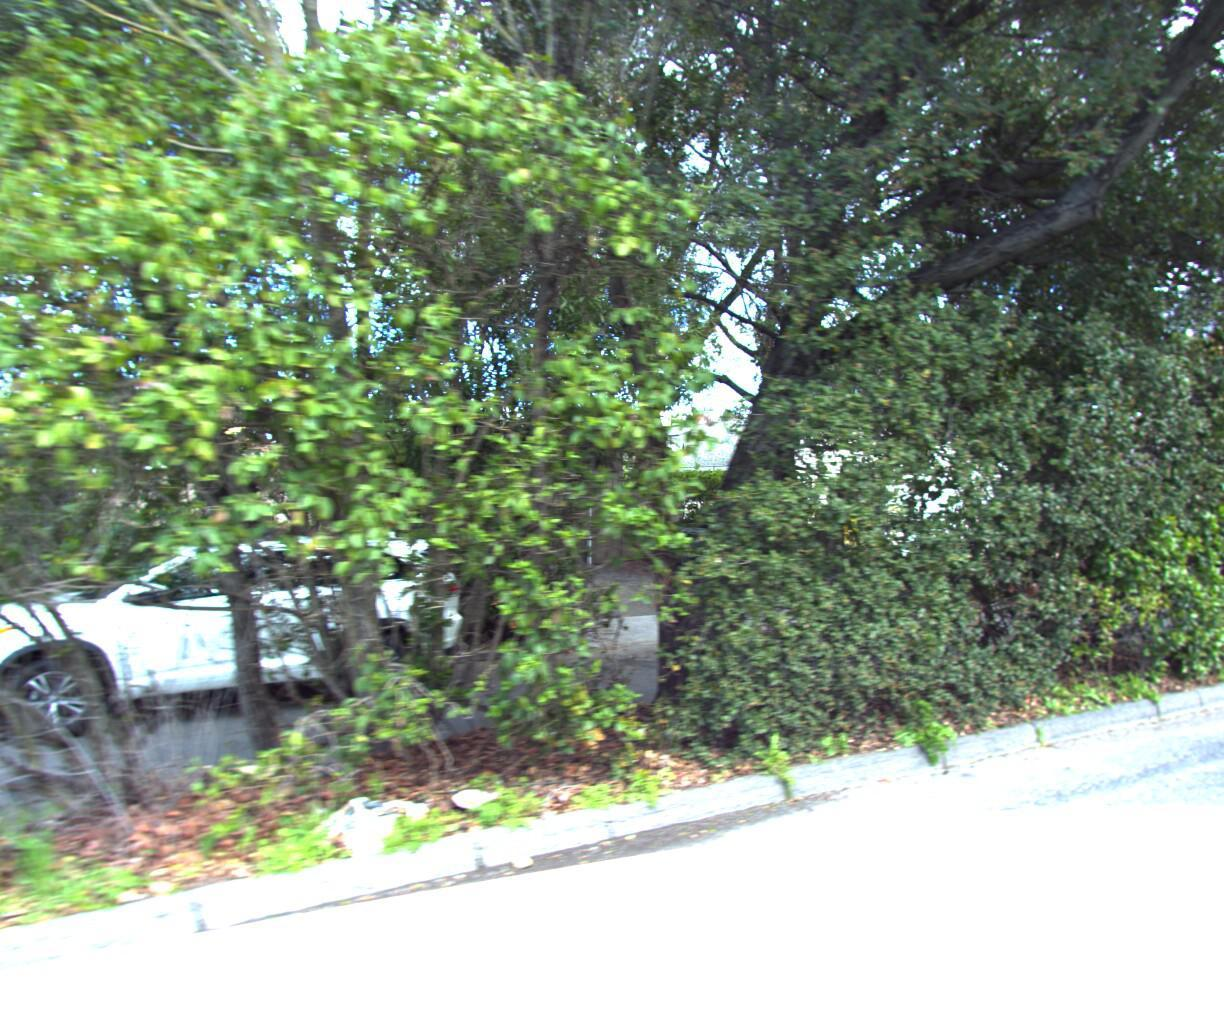car: (0, 523, 479, 776)
